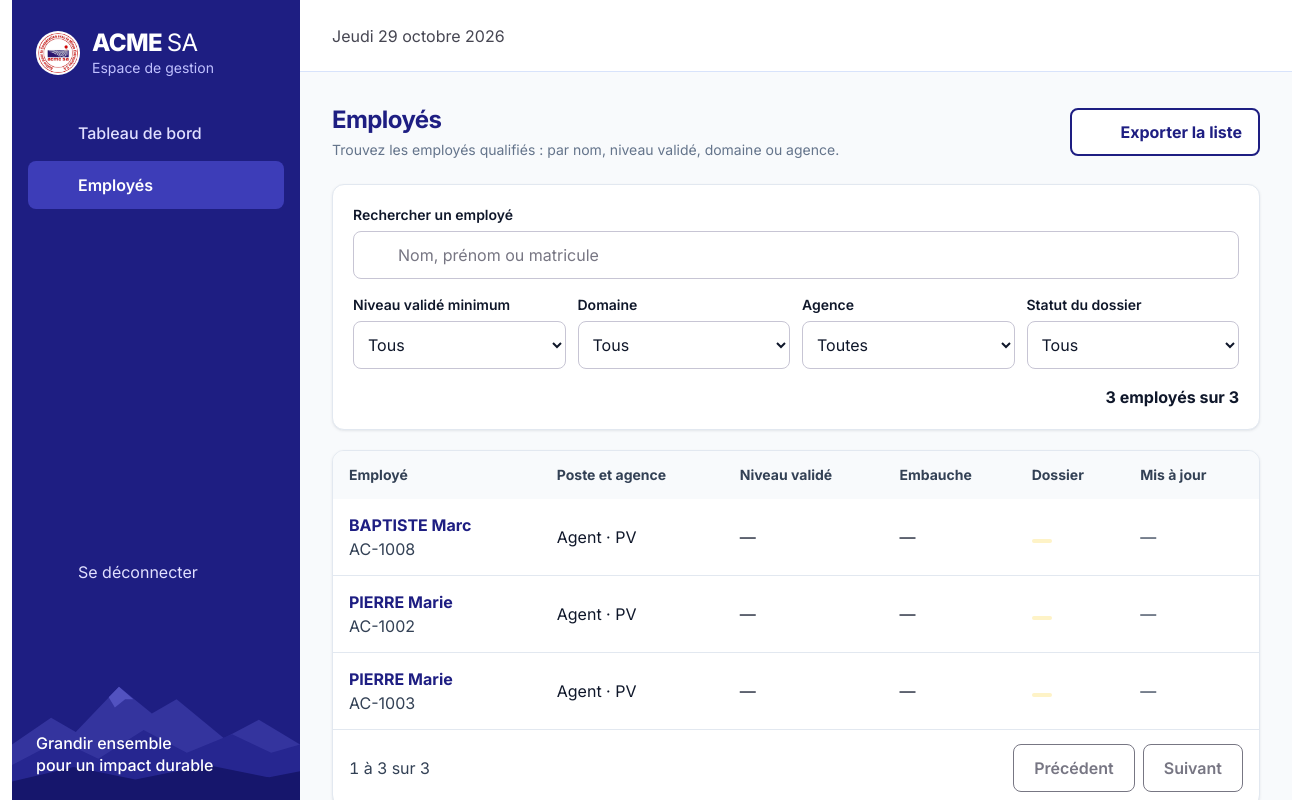
Test case: EmployeeSearch (US-18) › CA-07 : aucun résultat → message et « Effacer la recherche » ; CA-08 : la liste complète revient
This screenshot has width=1292, height=800.
Expected: the text "3 employés sur 3" is shown, [1106,385,1239,409]
Type "zzz" into the search field labelled "Rechercher un employé" at (812, 255), box [398,235,1226,275]
Wait 300 ms
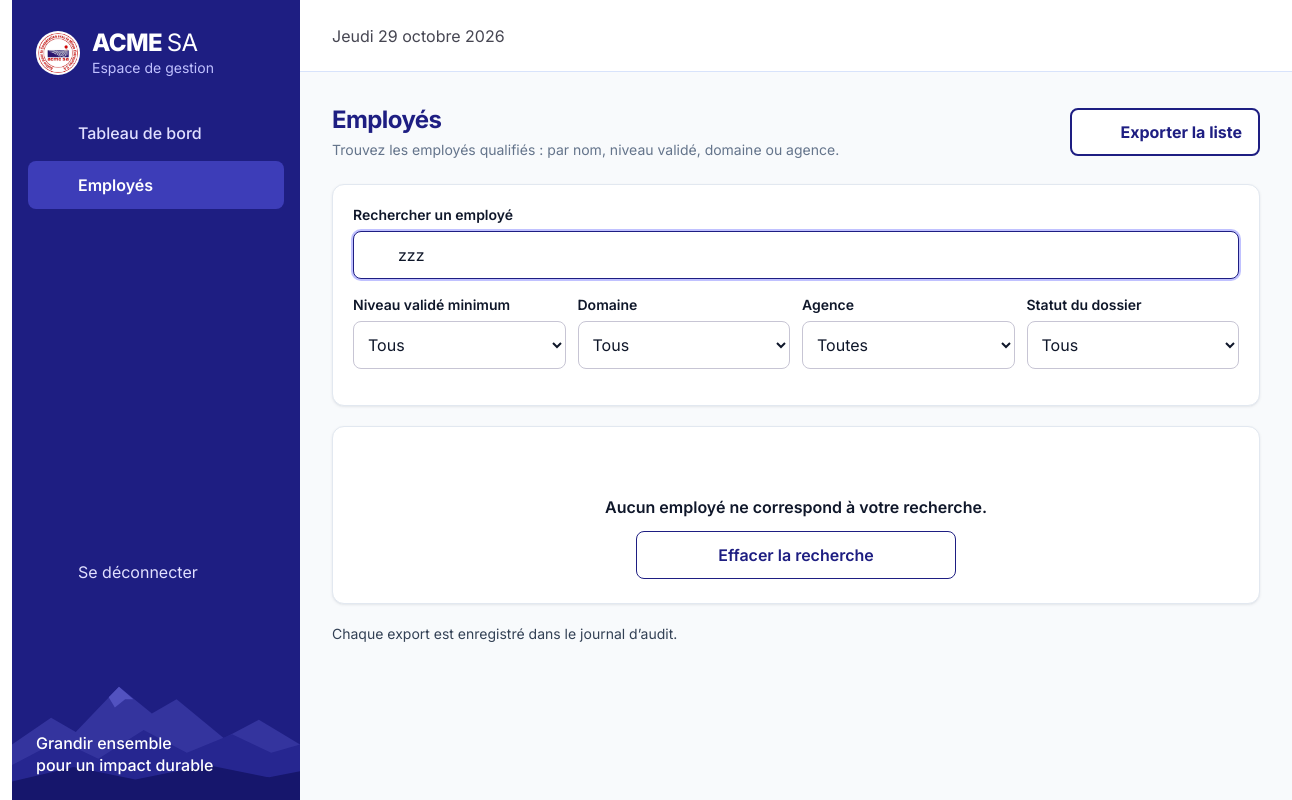
Expected: the text "Aucun employé ne correspond à votre recherche." is shown, [605,495,987,519]
Click the button "Effacer la recherche" at (796, 555), box [636,531,956,579]
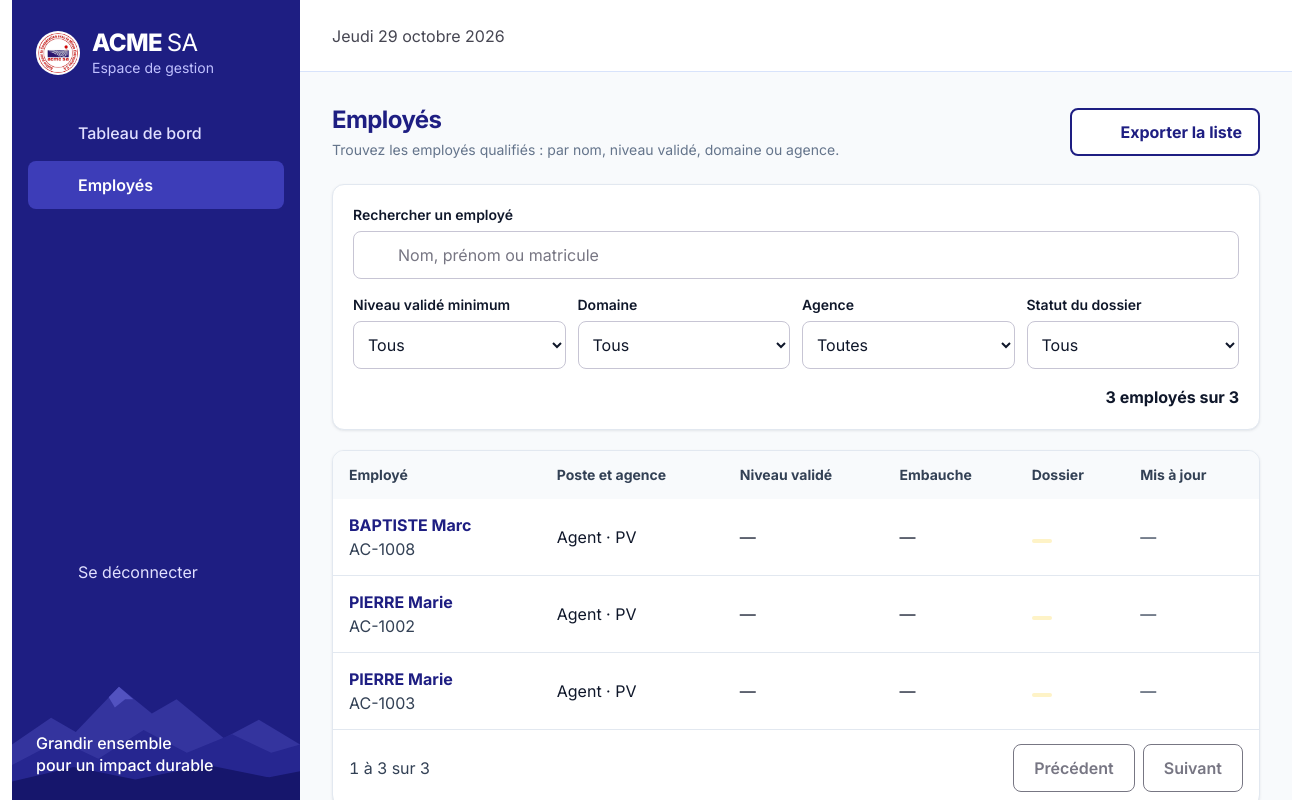
Expected: the text "3 employés sur 3" is shown, [1106,385,1239,409]
Expected: the search field labelled "Rechercher un employé" is empty, [398,235,1226,275]
